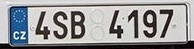character: (34, 10, 50, 39), (142, 9, 158, 38), (158, 8, 173, 38), (52, 11, 68, 39), (70, 10, 85, 39), (108, 9, 123, 38), (127, 9, 139, 38)
